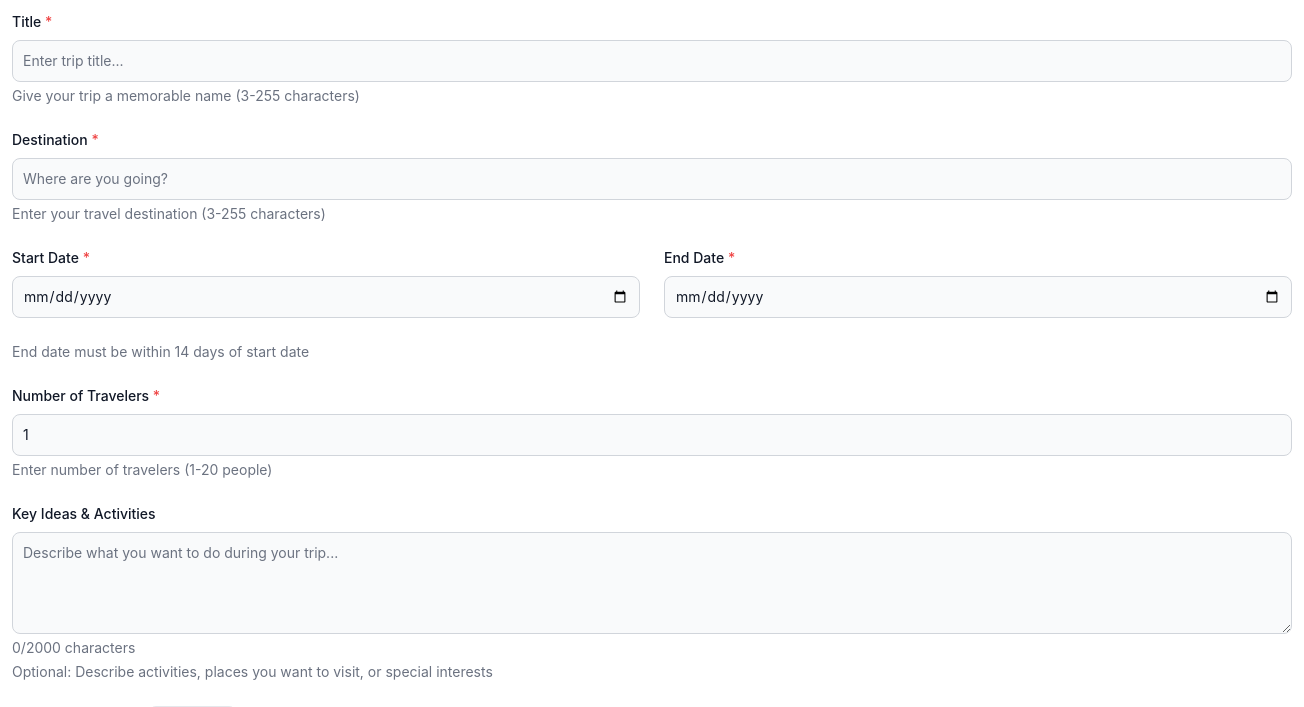
Test case: NoteForm - Core Functionality › Basic Field Validation › should show title too short error for titles less than 3 characters
This screenshot has width=1304, height=707.
Type "Ab" into the field labelled "Title *" at (652, 61), box [12,40,1292,82]
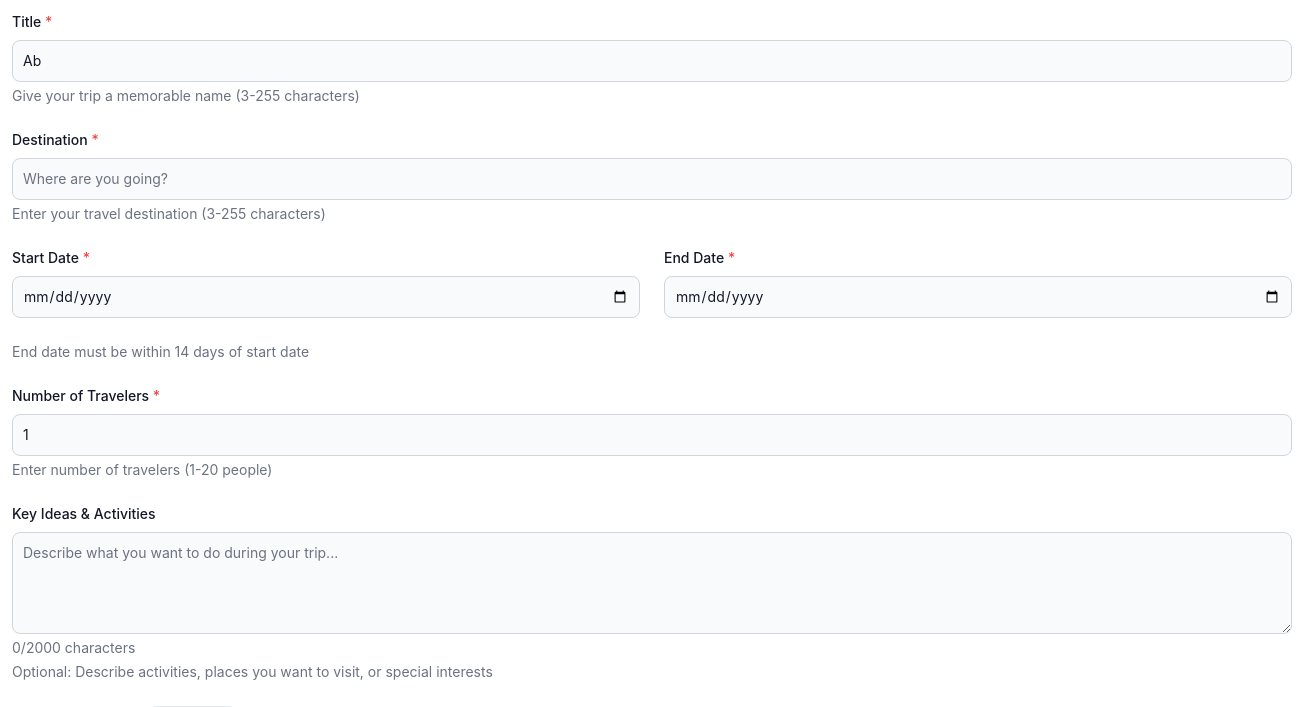
Leave the field labelled "Title *", box [12,40,1292,82]
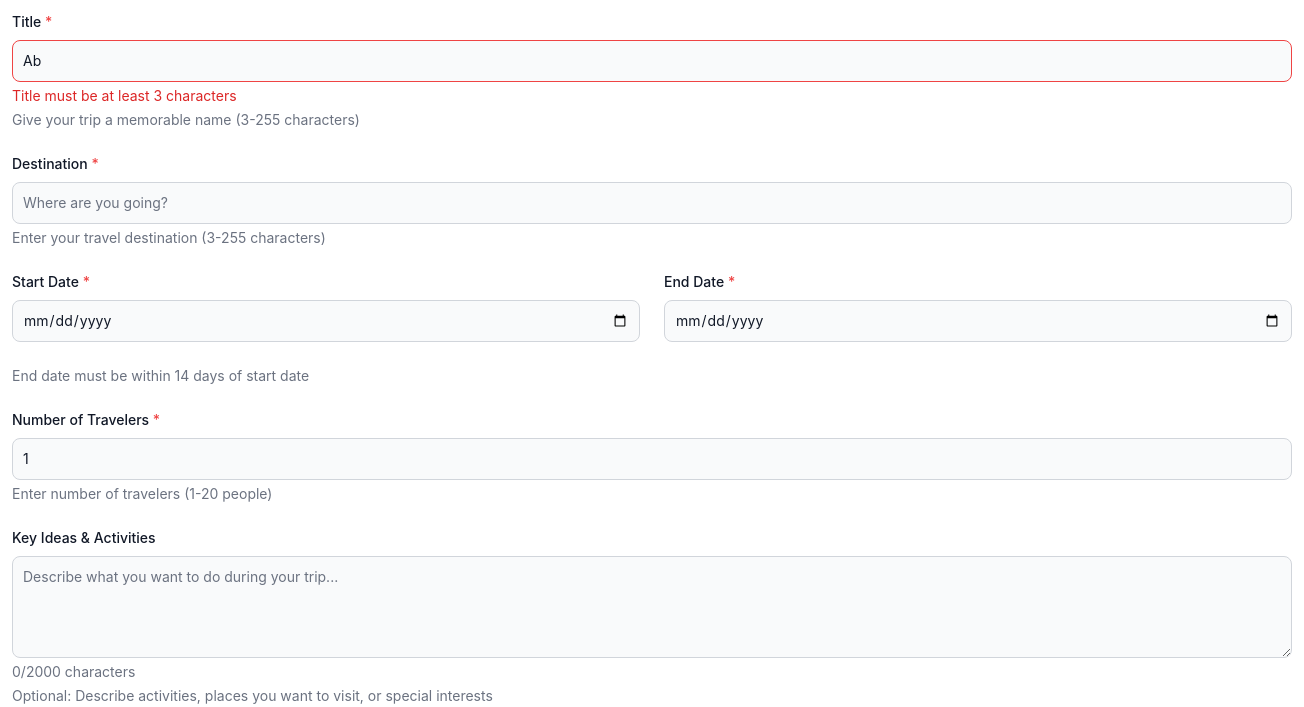
Check: the text "Title must be at least 3 characters" is shown, box [12,87,237,104]
